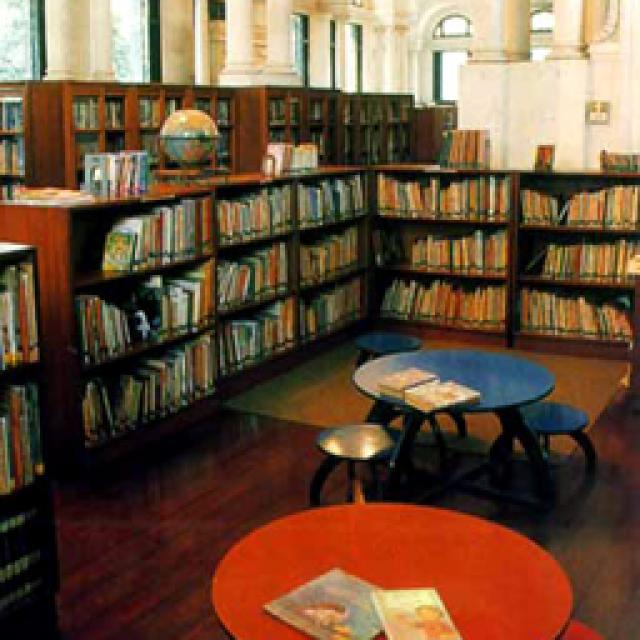2003: (5, 0, 45, 75)
2006: (112, 0, 152, 78), (438, 50, 472, 100)
book case: (375, 585, 462, 638), (405, 378, 485, 410), (382, 362, 440, 400)
bookcase crop: (2, 158, 380, 482), (372, 158, 640, 357), (5, 78, 460, 190), (2, 235, 62, 635)
books crop: (80, 262, 215, 362), (102, 195, 210, 268), (220, 295, 300, 378), (382, 278, 508, 330), (522, 285, 638, 340), (380, 168, 512, 215), (528, 235, 638, 280), (222, 238, 290, 310), (522, 185, 638, 225), (415, 225, 510, 270), (222, 182, 292, 242), (300, 222, 365, 285), (302, 172, 368, 225), (88, 148, 152, 195), (445, 125, 495, 165), (268, 138, 322, 172)
floor -X: (2, 322, 640, 638)
globe: (162, 108, 220, 165)
stool: (310, 422, 395, 502), (525, 398, 600, 468)
table -X: (355, 348, 560, 508)
table lamp: (215, 500, 578, 638)
wall clock: (410, 0, 640, 168), (3, 0, 412, 90)
